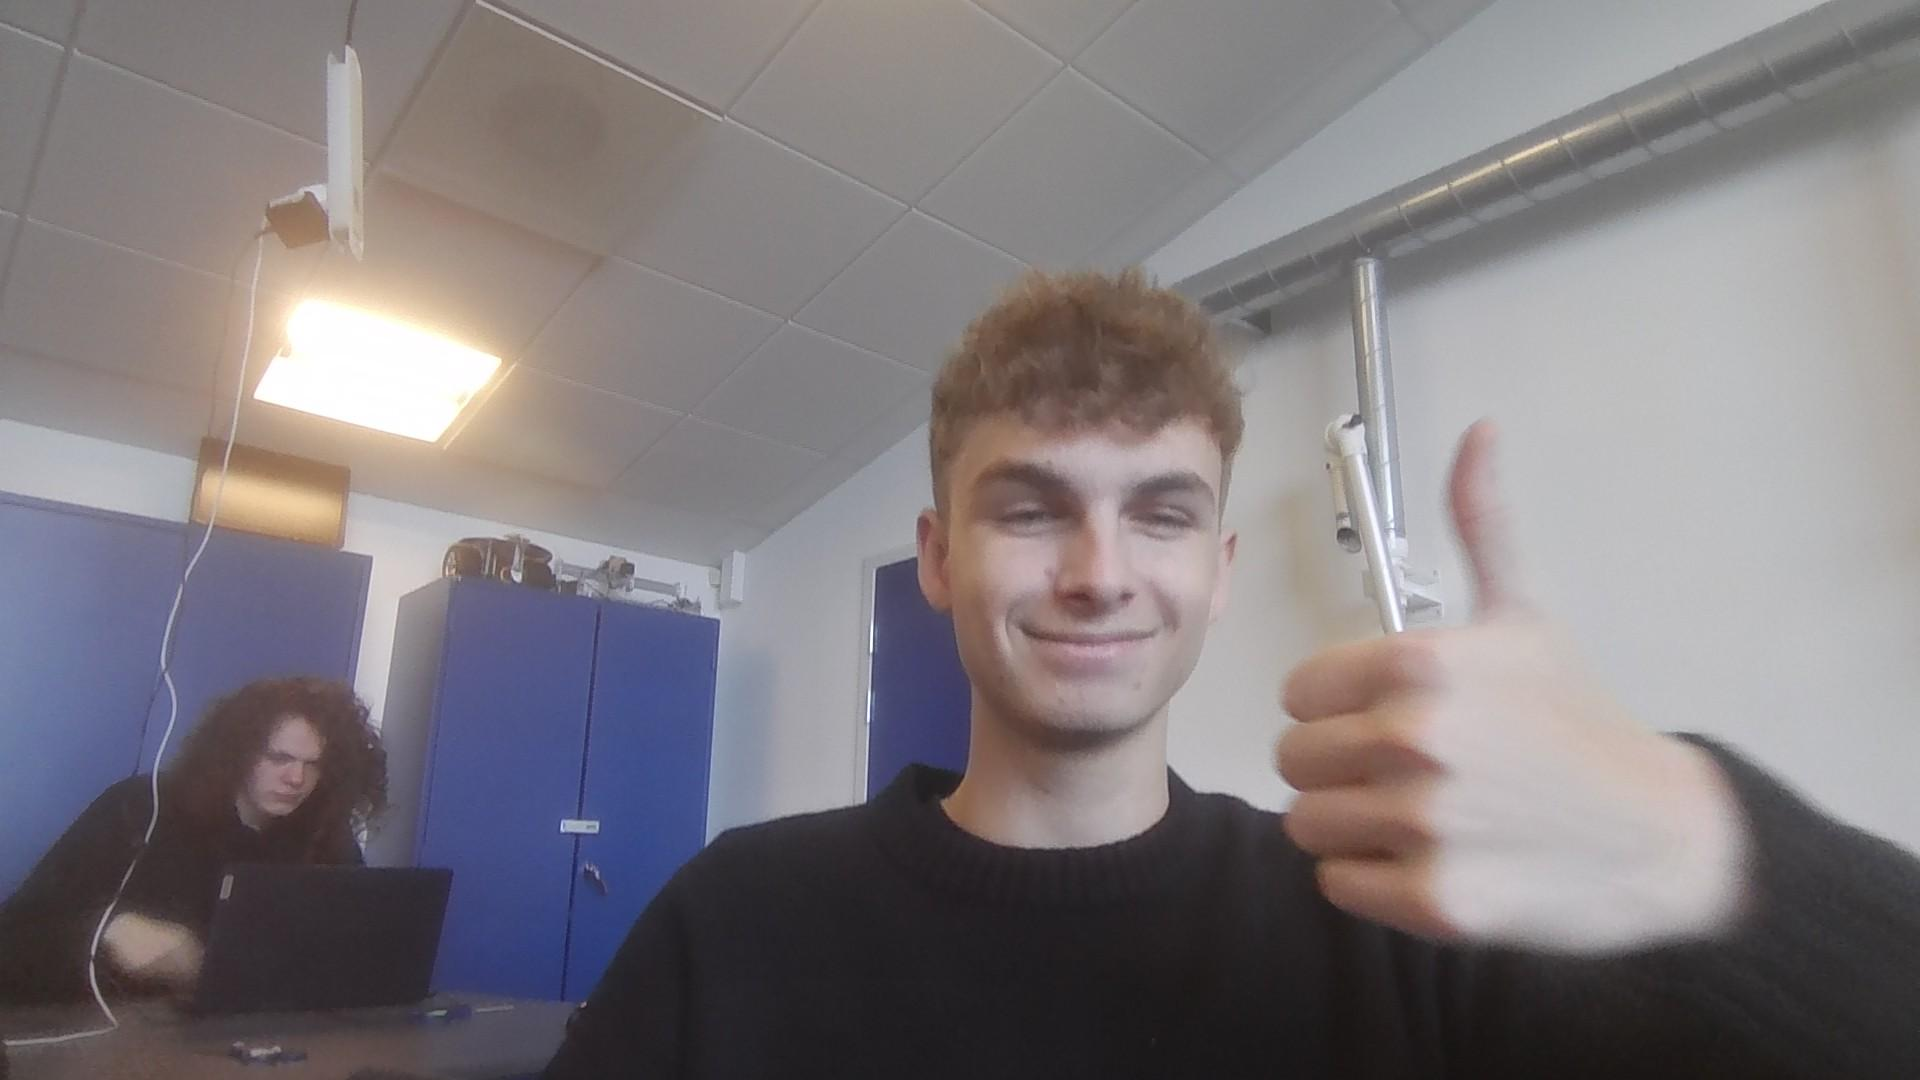thumbs up: (1276, 401, 1692, 980)
